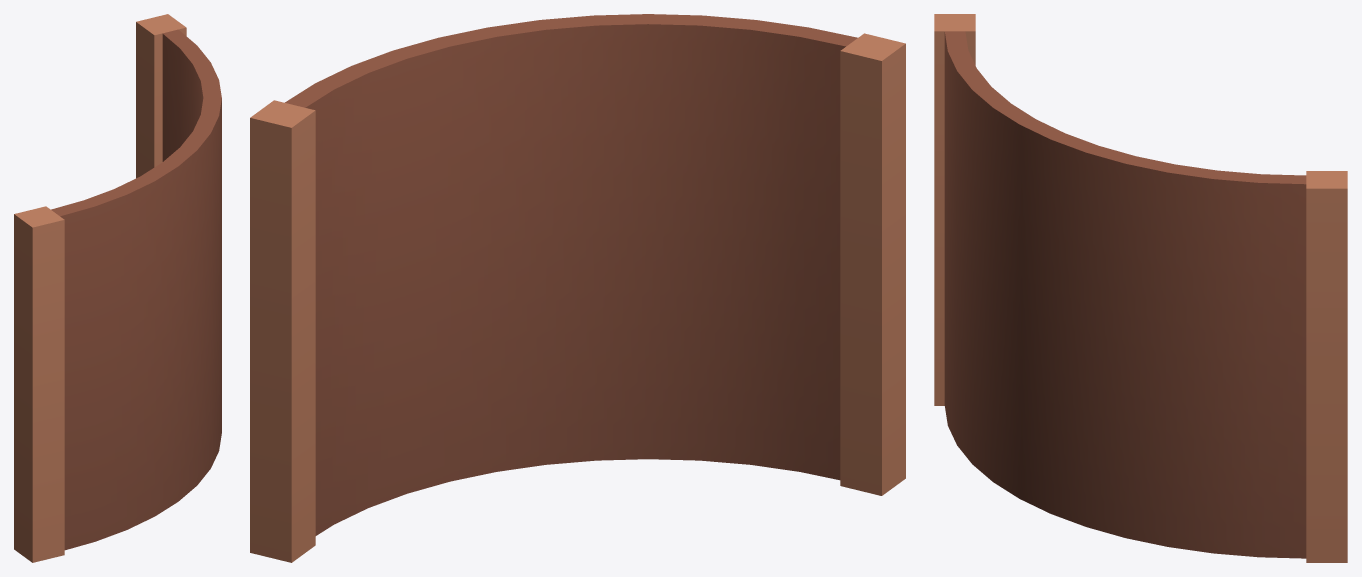
Rendered from wall_wood_curved.glb.
3 renders of one model, left to right at view 1: azimuth 30°, elevation 25°; view 2: azimuth 150°, elevation 25°; view 3: azimuth 270°, elevation 25°, orthographic. The views are drawn at different scales.
Parts seen in each view (by area): view 1: wall-wood-curved; view 2: wall-wood-curved; view 3: wall-wood-curved.
Boxes of the visible parts, x1,y1,x2,y2 form: wall-wood-curved: (14, 14, 221, 562); wall-wood-curved: (250, 14, 905, 562); wall-wood-curved: (934, 14, 1347, 562).
Size of the model in its own units: 1 by 1 by 1.
Materials: 1 (1 with a texture image).
